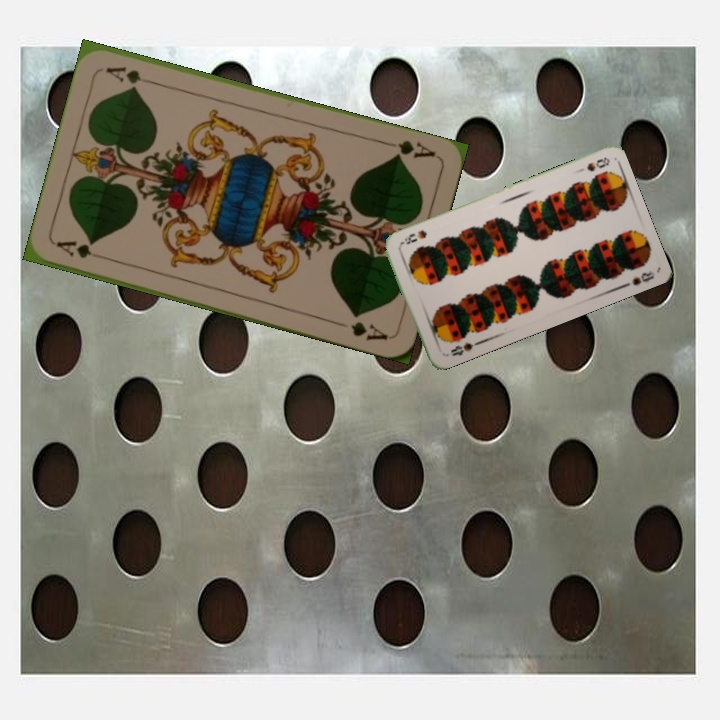GA: (380, 136, 438, 161), (52, 236, 94, 261)
S8: (447, 338, 481, 359), (582, 153, 612, 174)
